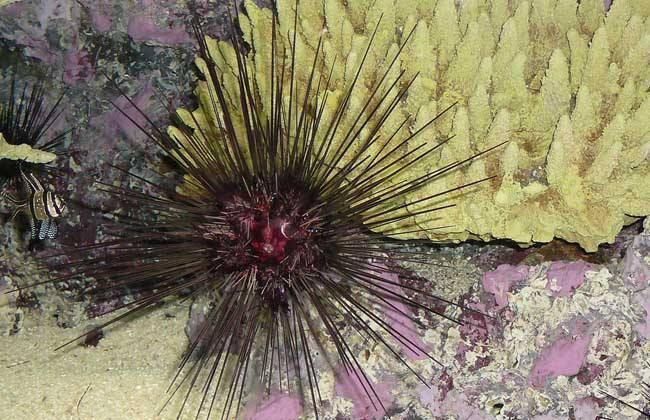urchin: (62, 22, 499, 417), (3, 49, 85, 184)
